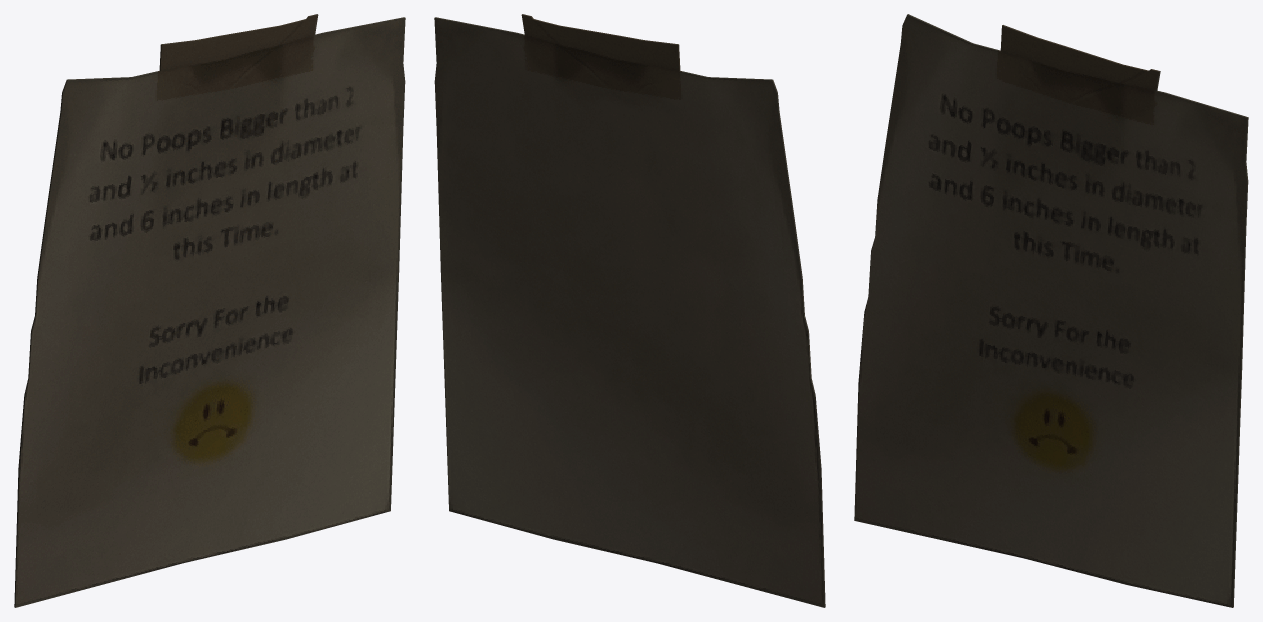
File: note_mx_100.glb
3 views of the same model, side by side, from view 1: azimuth 30°, elevation 25°; view 2: azimuth 150°, elevation 25°; view 3: azimuth 330°, elevation 25° (orthographic).
Parts seen in each view (by area): view 1: note_mx_100; view 2: note_mx_100; view 3: note_mx_100.
Boxes of the visible parts, x1=… form: note_mx_100: x1=14, y1=14, x2=405, y2=607; note_mx_100: x1=434, y1=14, x2=825, y2=607; note_mx_100: x1=854, y1=14, x2=1248, y2=607.
Size of the model in its own units: 0.2226 by 0.2875 by 0.001.
1 material, 1 textured.
